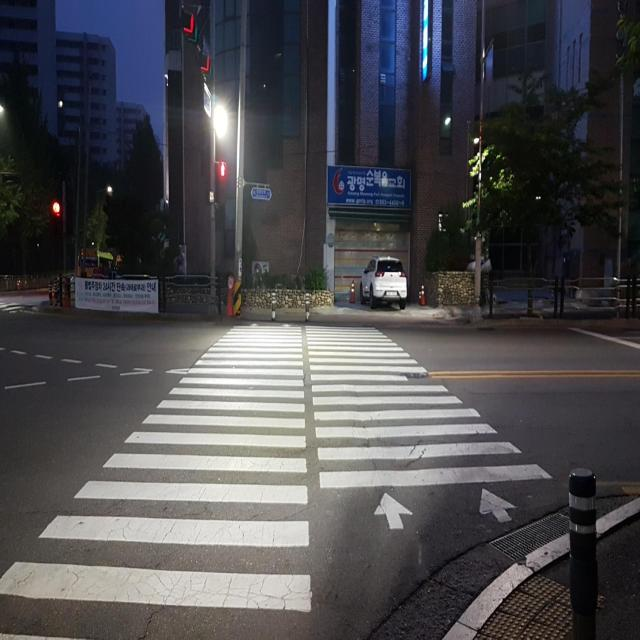횡단보도: (1, 317, 555, 618)
